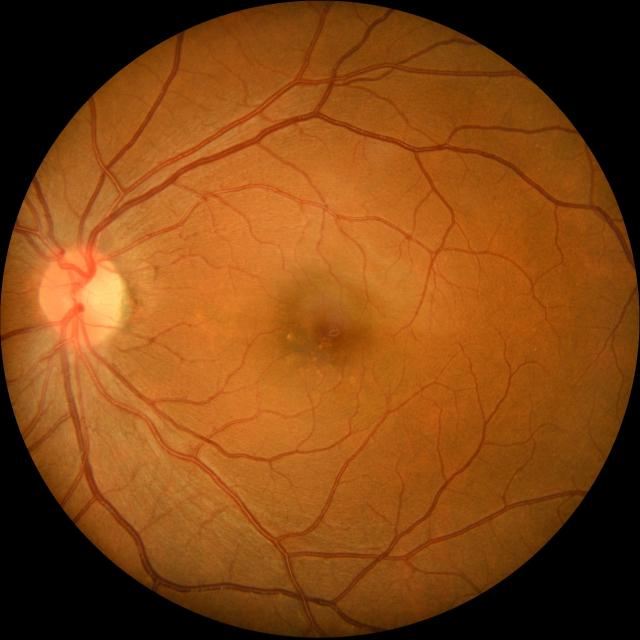OC: (79, 279, 107, 314)
OD: (39, 246, 124, 346)
